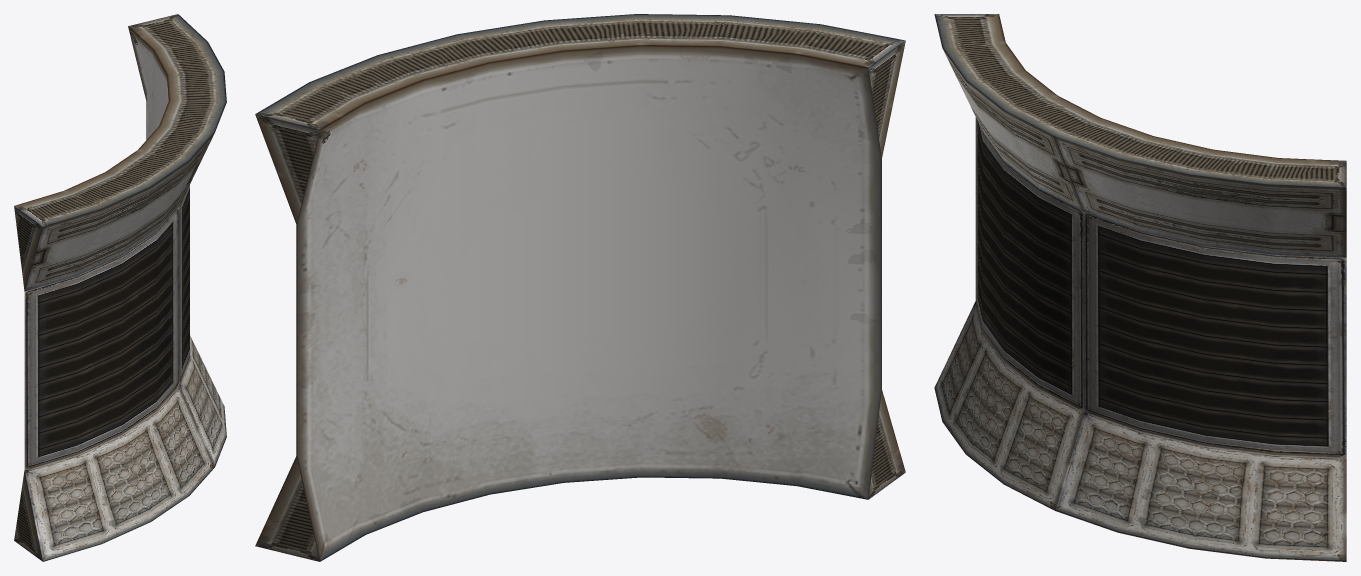
Rendered from scifi_wall_curve1_3.FBX.
3 views of the same model, side by side, from view 1: azimuth 30°, elevation 25°; view 2: azimuth 150°, elevation 25°; view 3: azimuth 270°, elevation 25° (orthographic). The views are drawn at different scales.
Parts seen in each view (by area): view 1: Plane097; view 2: Plane097; view 3: Plane097.
Part boxes in pixels (box(x1,y1,x2,y2)): Plane097: box(14, 14, 226, 561); Plane097: box(255, 14, 905, 561); Plane097: box(934, 14, 1346, 561).
Size of the model in its own units: 254 by 254 by 254.
